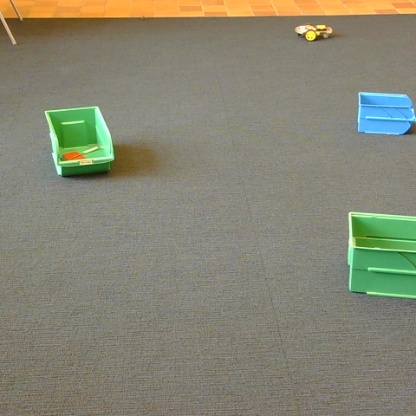robot: (295, 24, 332, 41)
